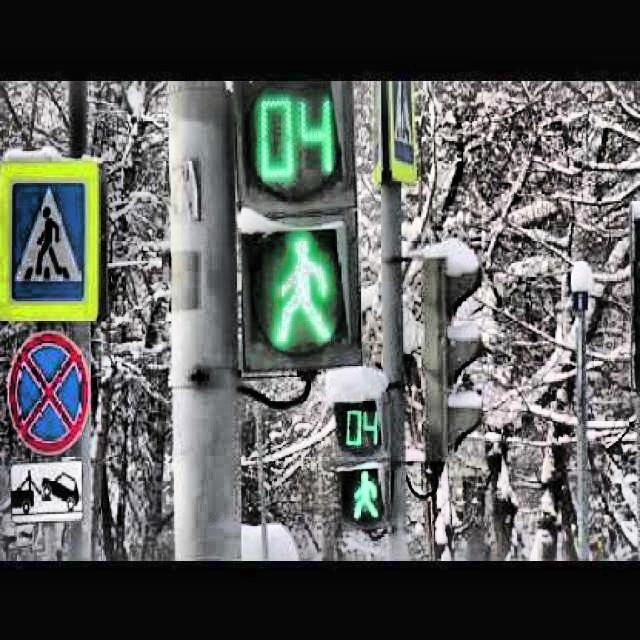semaforo pedestre: (210, 78, 392, 382), (303, 387, 415, 550)
